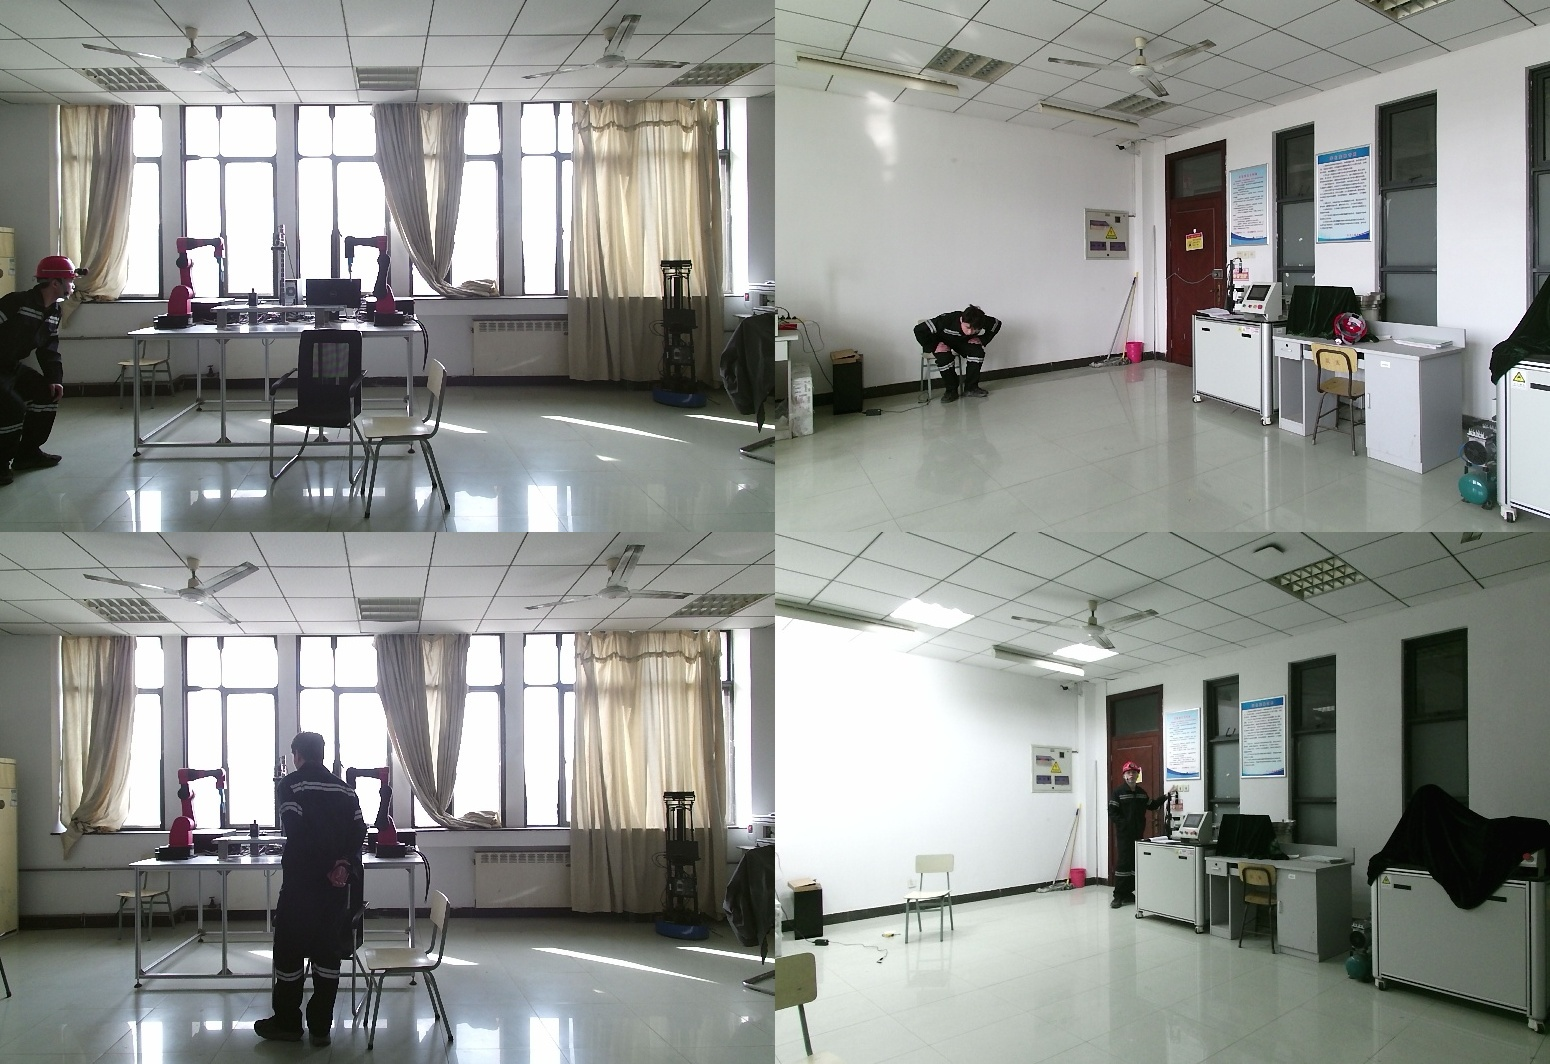person: (255, 734, 369, 1043), (2, 257, 83, 483), (1106, 763, 1169, 910), (913, 309, 1000, 407)
